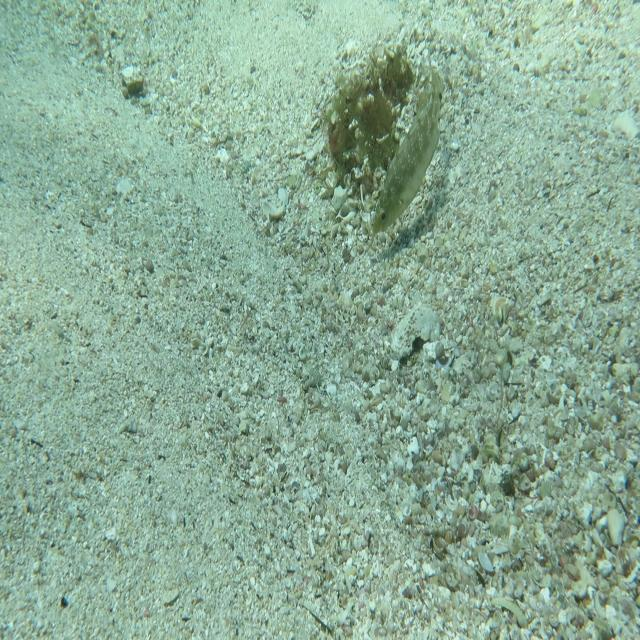SA: (371, 62, 448, 240)
core_nest: (371, 61, 404, 100)
nest: (320, 32, 418, 200)
vegetation: (124, 75, 144, 101)
